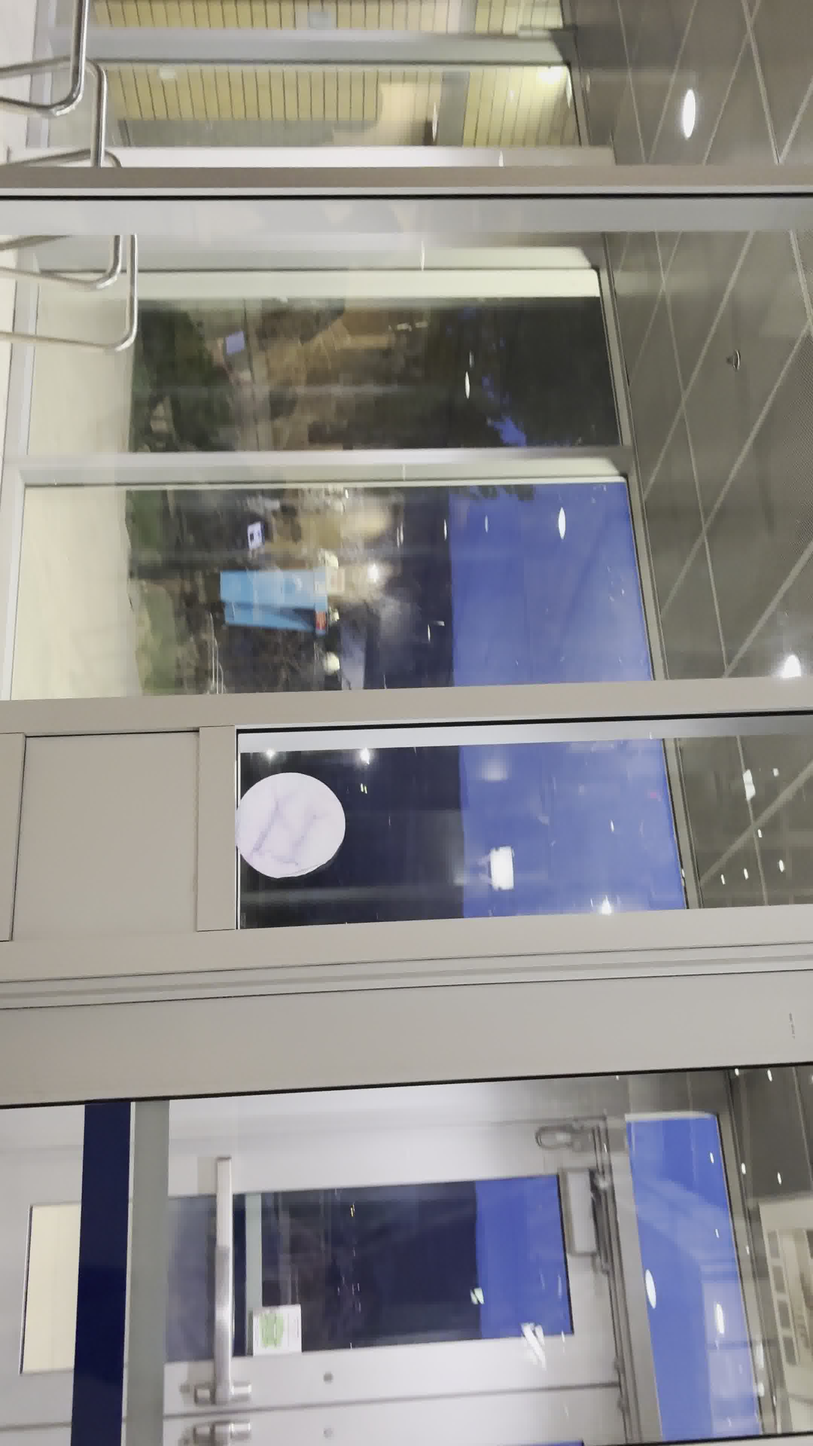Target: (233, 770, 347, 880)
